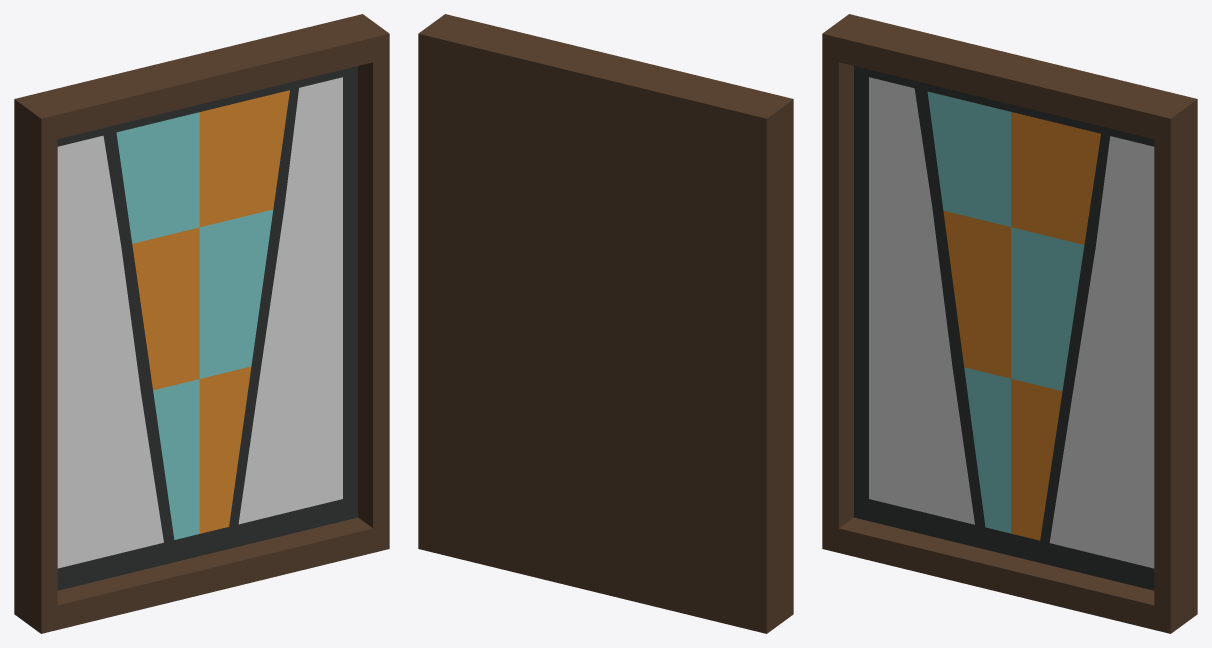
The model's file is painting4.fbx.
3 renders of one model, left to right at view 1: azimuth 30°, elevation 25°; view 2: azimuth 150°, elevation 25°; view 3: azimuth 330°, elevation 25°, orthographic.
Visible parts, largest first — view 1: pCube4; view 2: pCube4; view 3: pCube4.
Part boxes in pixels (<box>): pCube4: <box>14,14,389,633</box>; pCube4: <box>418,14,793,633</box>; pCube4: <box>822,14,1197,633</box>.
Size of the model in its own units: 3.61 by 5.11 by 0.4839.
